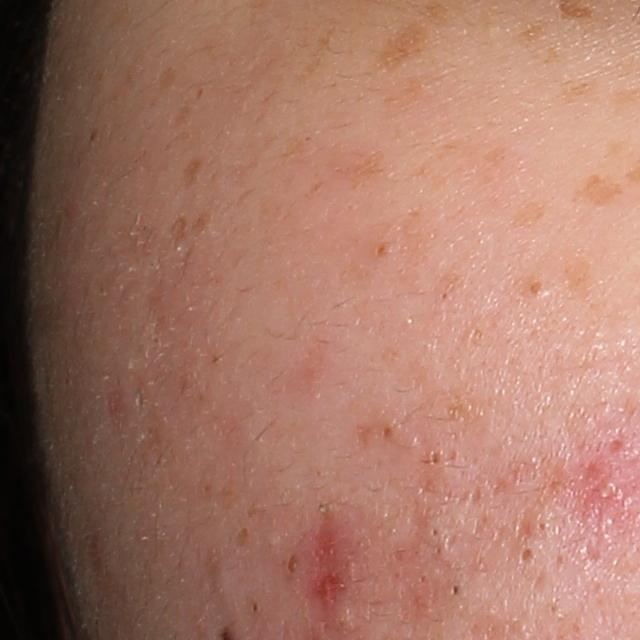comedo: (331, 606, 358, 633), (283, 551, 302, 579), (524, 275, 544, 300), (515, 542, 536, 565), (378, 421, 398, 443), (372, 238, 394, 258), (426, 448, 445, 468), (447, 581, 464, 600), (532, 520, 550, 535), (249, 599, 264, 615), (428, 524, 442, 541)
melasma: (376, 0, 449, 75), (306, 142, 393, 201), (288, 17, 343, 86), (561, 244, 597, 303), (570, 173, 625, 211), (503, 198, 549, 237), (180, 154, 216, 196), (188, 201, 215, 242), (514, 22, 551, 49), (168, 214, 189, 252)
papule: (590, 454, 637, 524)
